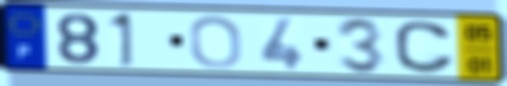1: (106, 11, 136, 68)
3: (334, 16, 387, 75)
4: (258, 16, 307, 71)
8: (55, 12, 104, 65)
C: (391, 19, 458, 75)
O: (187, 14, 245, 70)
